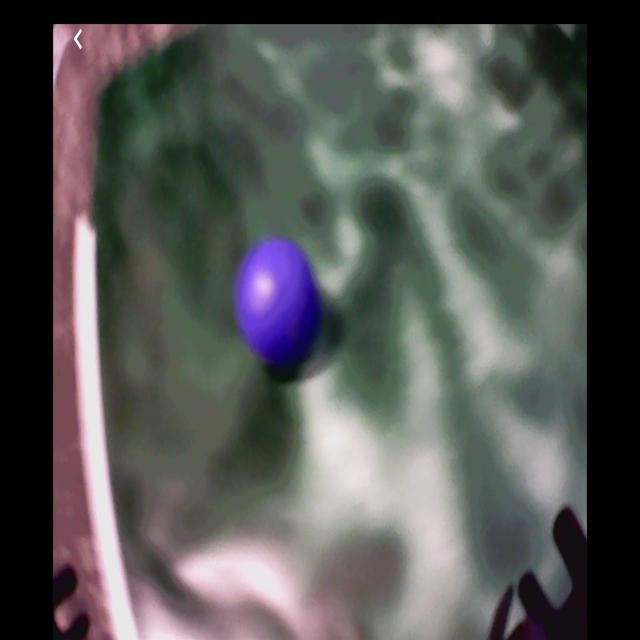ball: (235, 234, 321, 367)
